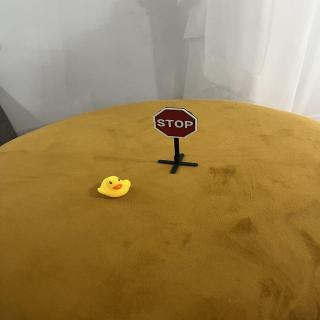duck_regular: (97, 174, 134, 201)
sign_stop: (154, 107, 200, 141)
